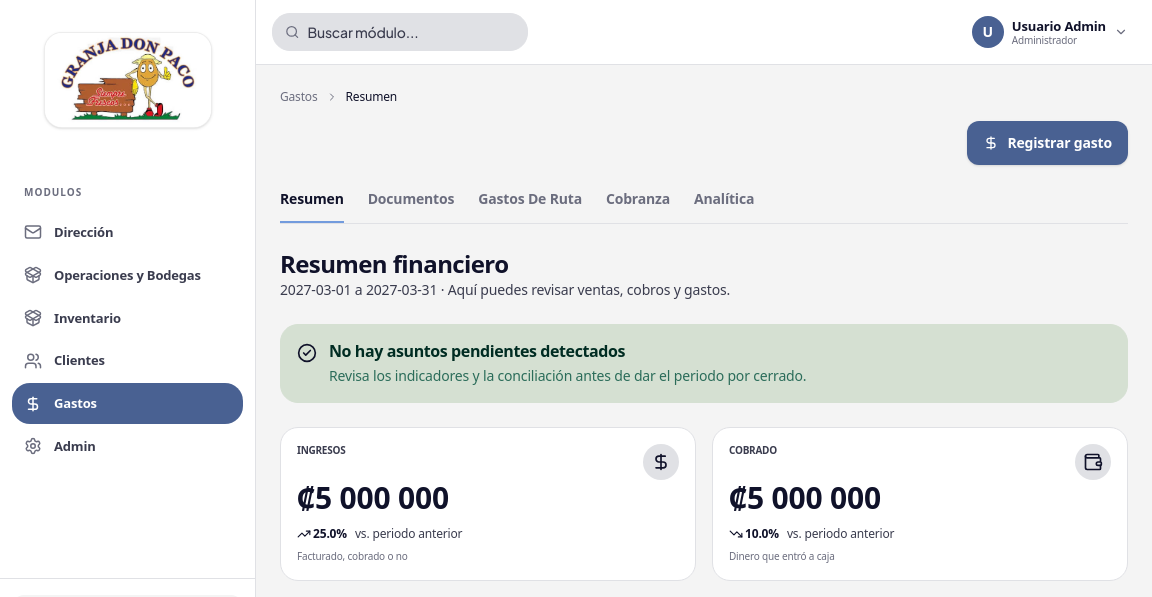
it: Resumen › la bandeja se vacía cuando no hay nada vencido, no hay alertas de operación y el mes cierra en positivo
The width and height of the screenshot is (1152, 597).
Click the button "Gastos" below "Modulos": (128, 404) [12,383,243,424]
(page scrolled)
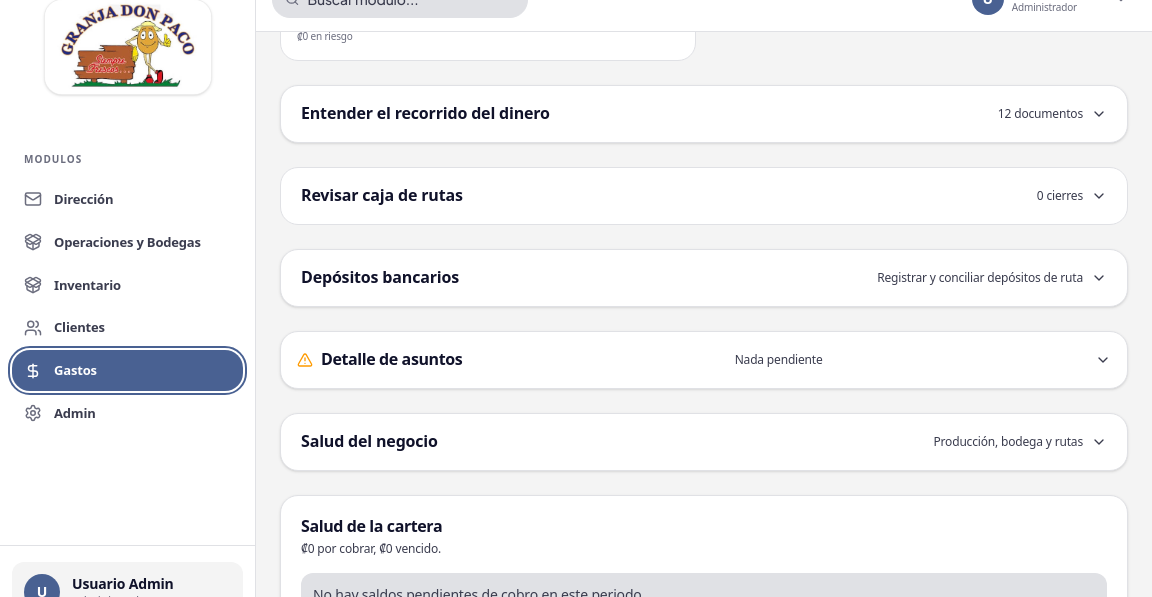
Result: the element with test id "finanzas-requiere-atencion" shows "Nada pendiente" at [735,351,823,368]
